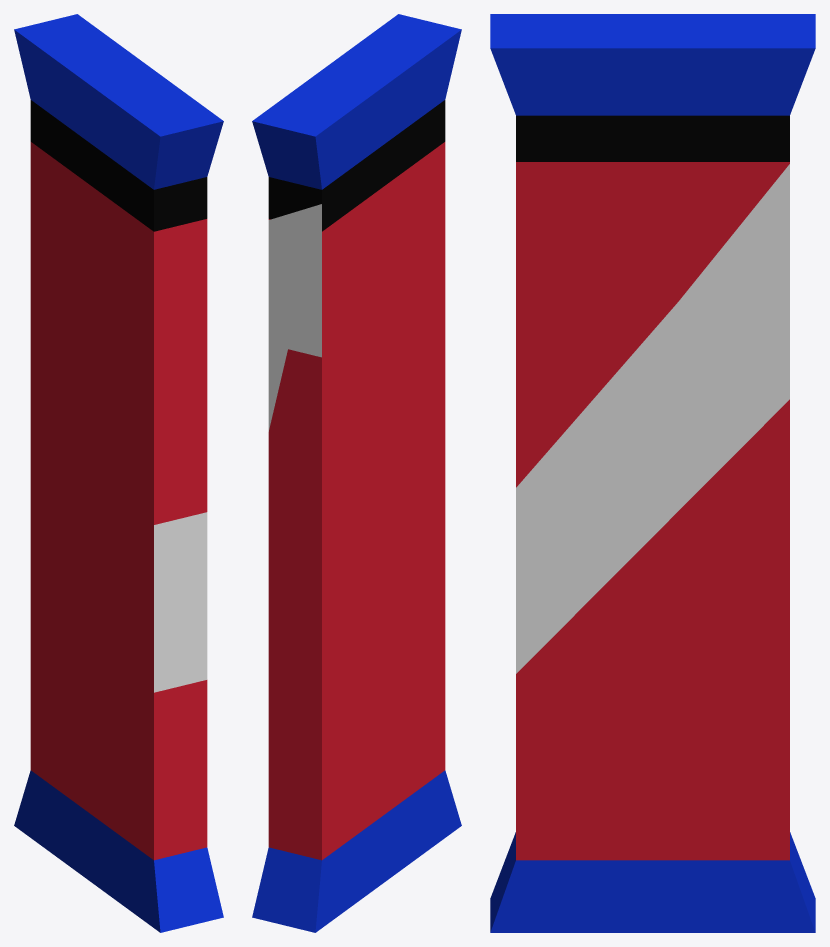
File: Snezenka.fbx
3 views of the same model, side by side, from view 1: azimuth 30°, elevation 25°; view 2: azimuth 150°, elevation 25°; view 3: azimuth 270°, elevation 25° (orthographic). The views are drawn at different scales.
Parts seen in each view (by area): view 1: Susenka; view 2: Susenka; view 3: Susenka.
Part boxes in pixels (left/top/right/bottom): Susenka: left=14, top=14, right=223, bottom=932; Susenka: left=252, top=14, right=461, bottom=932; Susenka: left=490, top=14, right=815, bottom=932.
Bounding box in the file's own units: 59.38 × 713 × 238.
